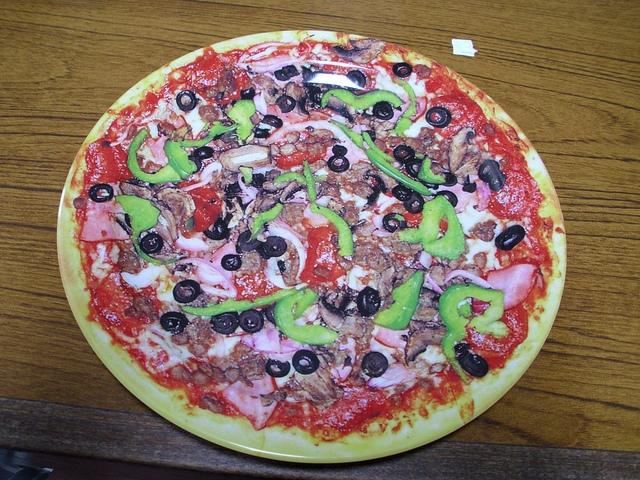bell pepper: (438, 282, 510, 384), (396, 195, 466, 259), (274, 288, 341, 345), (365, 148, 434, 196), (180, 288, 298, 316), (127, 128, 183, 184), (374, 270, 424, 330), (308, 202, 354, 256), (115, 195, 162, 237), (387, 77, 416, 137), (181, 122, 241, 147), (248, 202, 282, 242), (164, 141, 193, 179), (228, 100, 255, 140), (330, 122, 366, 150), (362, 131, 394, 162), (418, 156, 447, 184), (273, 172, 309, 186), (304, 160, 316, 201), (238, 166, 254, 184)
